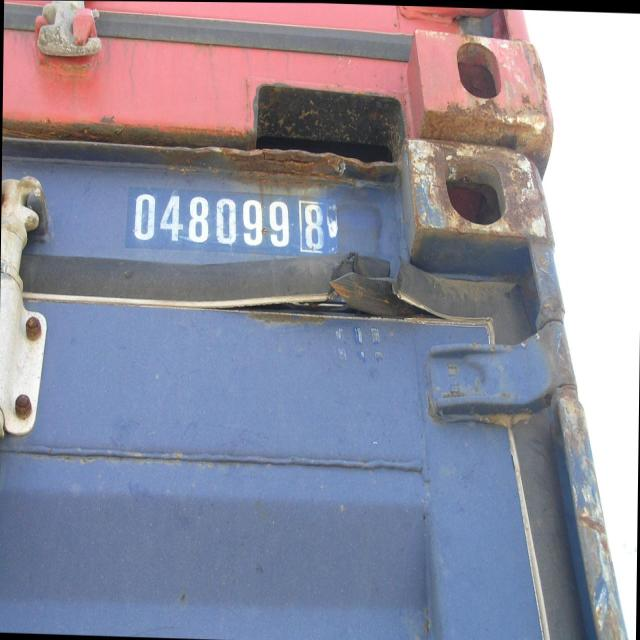hole: (149, 248, 495, 332)
